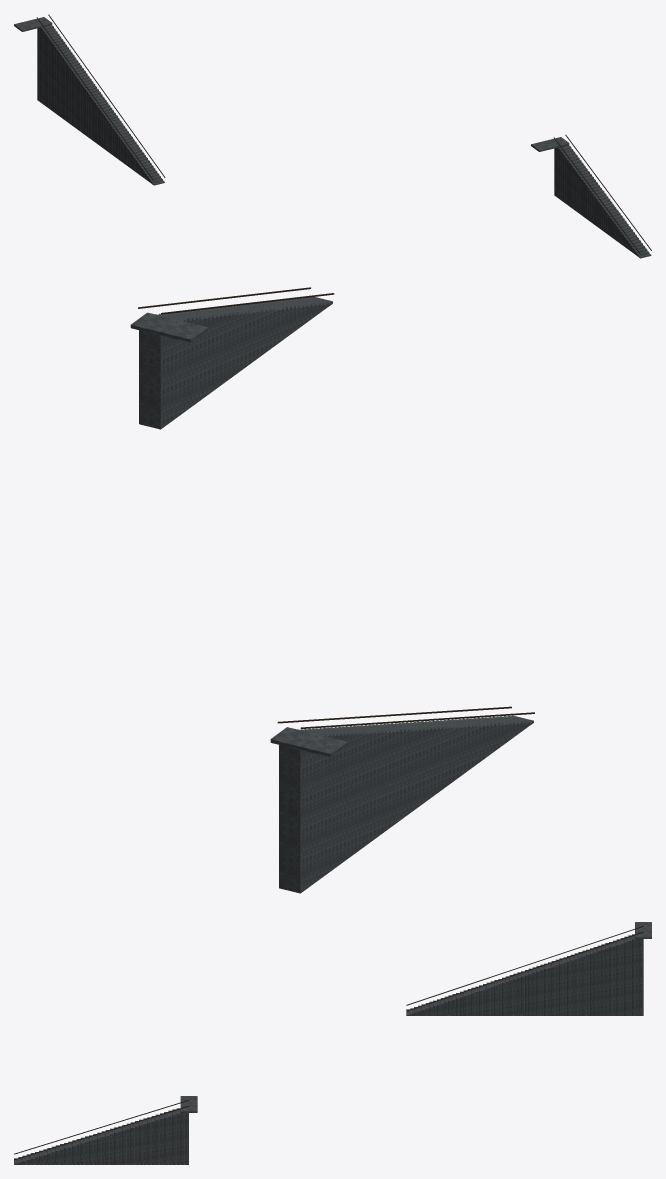
File: defensive_access.glb
The picture shows the model from 3 angles, top to bottom: view 1: azimuth 30°, elevation 25°; view 2: azimuth 150°, elevation 25°; view 3: azimuth 270°, elevation 25°; orthographic projection. The views are drawn at different scales.
Parts seen in each view (by area): view 1: ENV_R5_Stone, ENV_R5_Timber; view 2: ENV_R5_Stone, ENV_R5_Timber; view 3: ENV_R5_Stone, ENV_R5_Timber.
Boxes of the visible parts, box(x1,y1,x2,y2) form: ENV_R5_Stone: box(14, 17, 651, 258); ENV_R5_Timber: box(36, 14, 651, 253); ENV_R5_Stone: box(130, 297, 533, 893); ENV_R5_Timber: box(138, 287, 534, 728); ENV_R5_Stone: box(14, 922, 651, 1164); ENV_R5_Timber: box(14, 926, 643, 1160).
Size of the model in its own units: 67.42 by 17.16 by 113.
2 materials, 2 textured.
